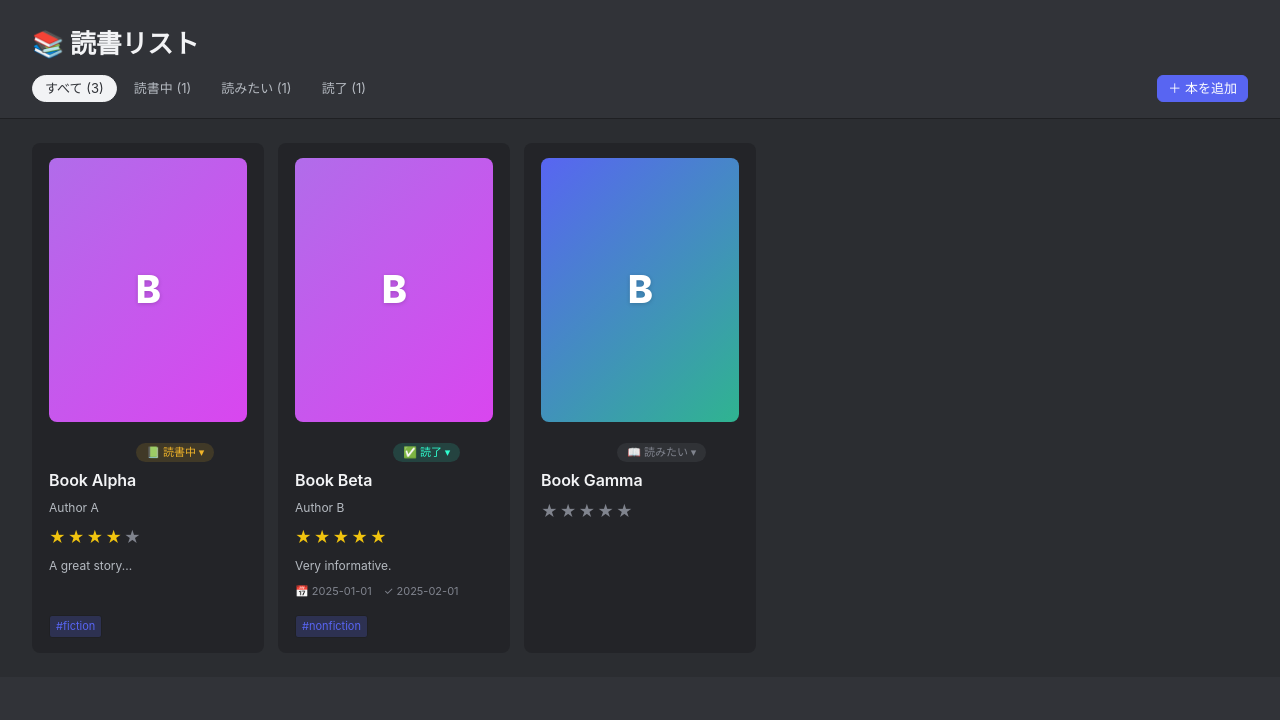
Test: BooksView › filters by status
This screenshot has width=1280, height=720.
Expected: the text "Book Alpha" is shown, [49, 470, 136, 490]
Click the button "読書中 (1)" at (162, 88), box [121, 75, 204, 102]
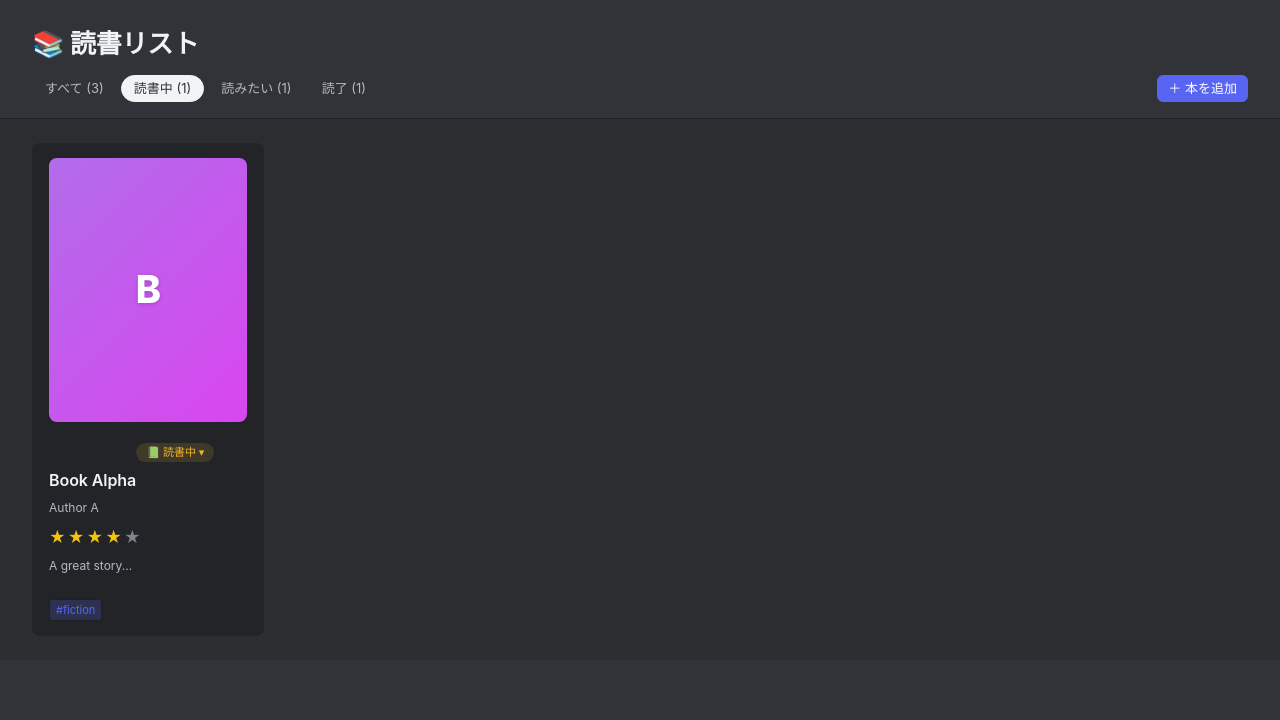
Expected: the text "Book Alpha" is shown, [49, 470, 136, 490]
Expected: the text "Book Beta" is gone
Expected: the text "Book Gamma" is gone
